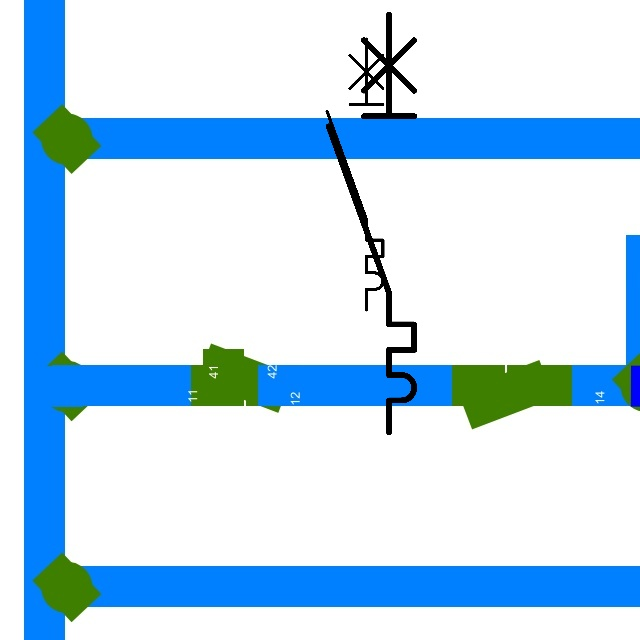interruptor_termomagnetico: (318, 4, 425, 443), (320, 32, 390, 317)
